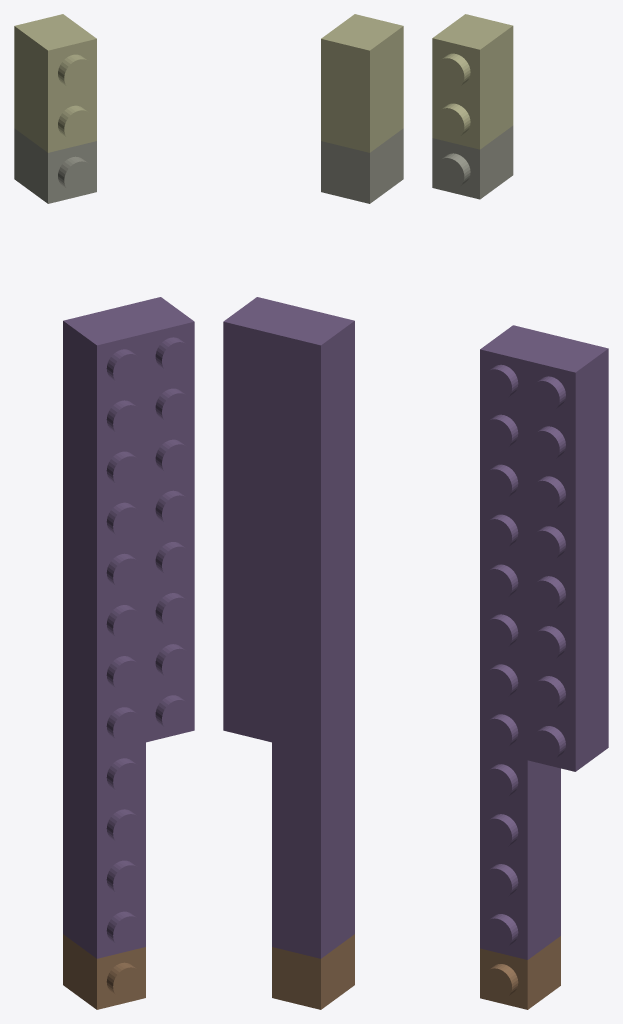
File: current.glb
The picture shows the model from 3 angles, left to right: view 1: azimuth 30°, elevation 25°; view 2: azimuth 150°, elevation 25°; view 3: azimuth 330°, elevation 25°; orthographic projection. The views are drawn at different scales.
Parts seen in each view (by area): view 1: world; view 2: world; view 3: world.
Part boxes in pixels (x1,y1,x2,y2): world: [14, 14, 194, 1009]; world: [223, 14, 403, 1009]; world: [432, 14, 608, 1009].
Size of the model in its own units: 24 by 152 by 11.4.
